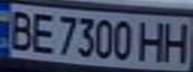0: (112, 17, 139, 62), (93, 16, 115, 61)
3: (75, 15, 96, 58)
7: (54, 12, 78, 56)
B: (3, 7, 39, 52)
E: (27, 9, 60, 55)
H: (136, 18, 172, 63), (160, 17, 193, 64)
